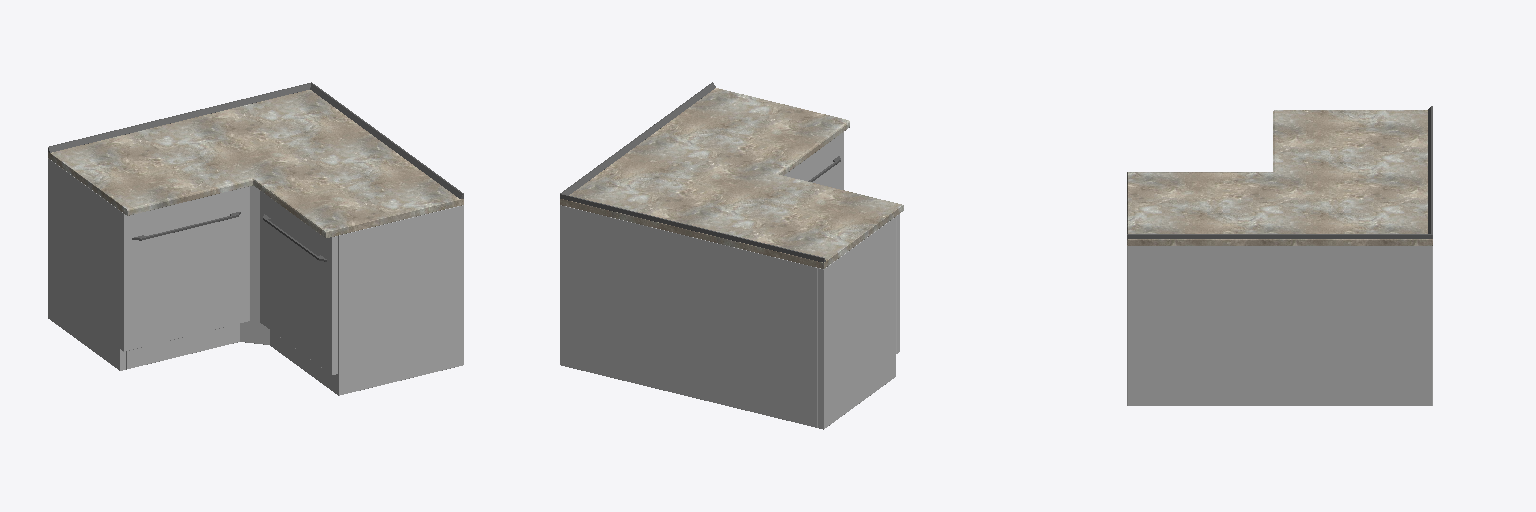
The picture shows the model from 3 angles: view 1: azimuth 30°, elevation 25°; view 2: azimuth 150°, elevation 25°; view 3: azimuth 270°, elevation 25°; orthographic projection.
Bounding box in the file's own units: 1.26 × 0.78 × 1.26.
Materials: 3 (2 with a texture image).